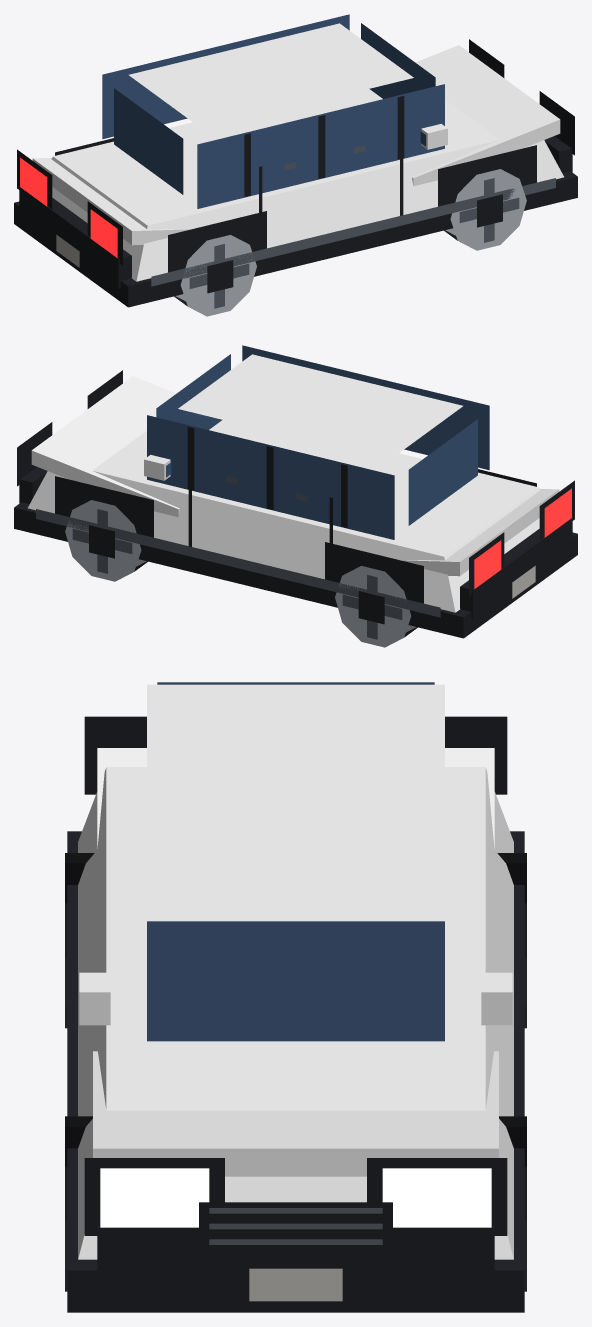
Rendered from car_midsize.glb.
The picture shows the model from 3 angles, top to bottom: view 1: azimuth 30°, elevation 25°; view 2: azimuth 150°, elevation 25°; view 3: azimuth 270°, elevation 25°; orthographic projection. The views are drawn at different scales.
Parts seen in each view (by area): view 1: car_midsize; view 2: car_midsize; view 3: car_midsize.
Part boxes in pixels (x1,y1,x2,y2): car_midsize: (14, 14, 577, 316); car_midsize: (14, 345, 577, 647); car_midsize: (65, 682, 526, 1312).
Bounding box in the file's own units: 0.4061 × 0.1429 × 0.1824.
